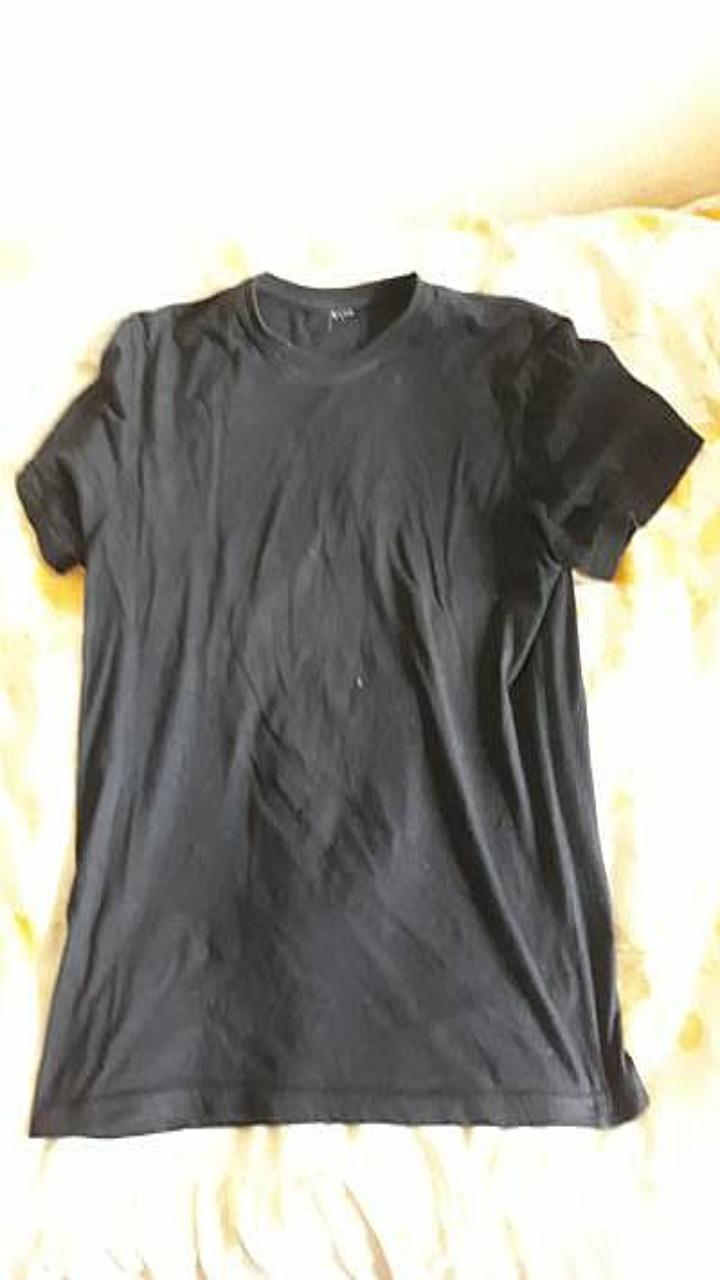T-Shirt: (15, 271, 702, 1136)
